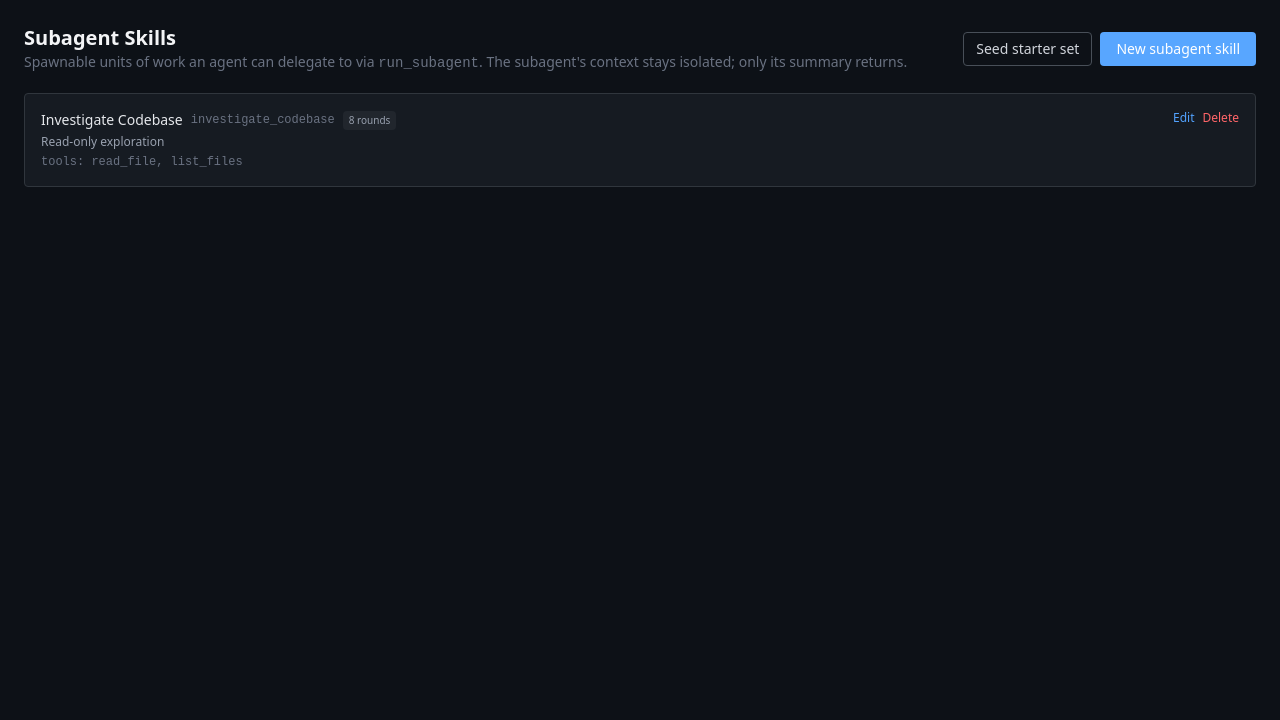
Scenario: SubagentSkills — no nesting › excludes run_subagent from the tool allowlist options
Click the button "New subagent skill" at coordinates (1178, 48), box left=1100, top=32, right=1256, bottom=66
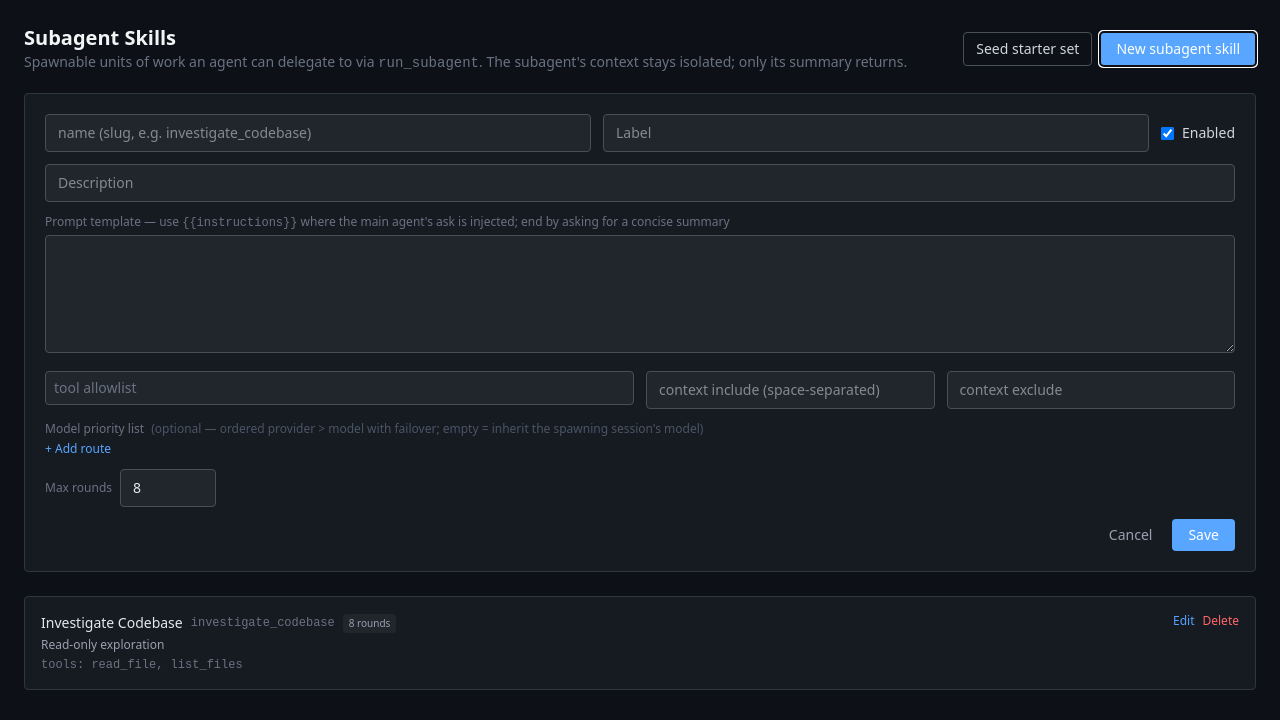
Note: Open the dropdown so options render.
Click the field with placeholder "tool allowlist" at coordinates (340, 388), box left=54, top=378, right=625, bottom=398
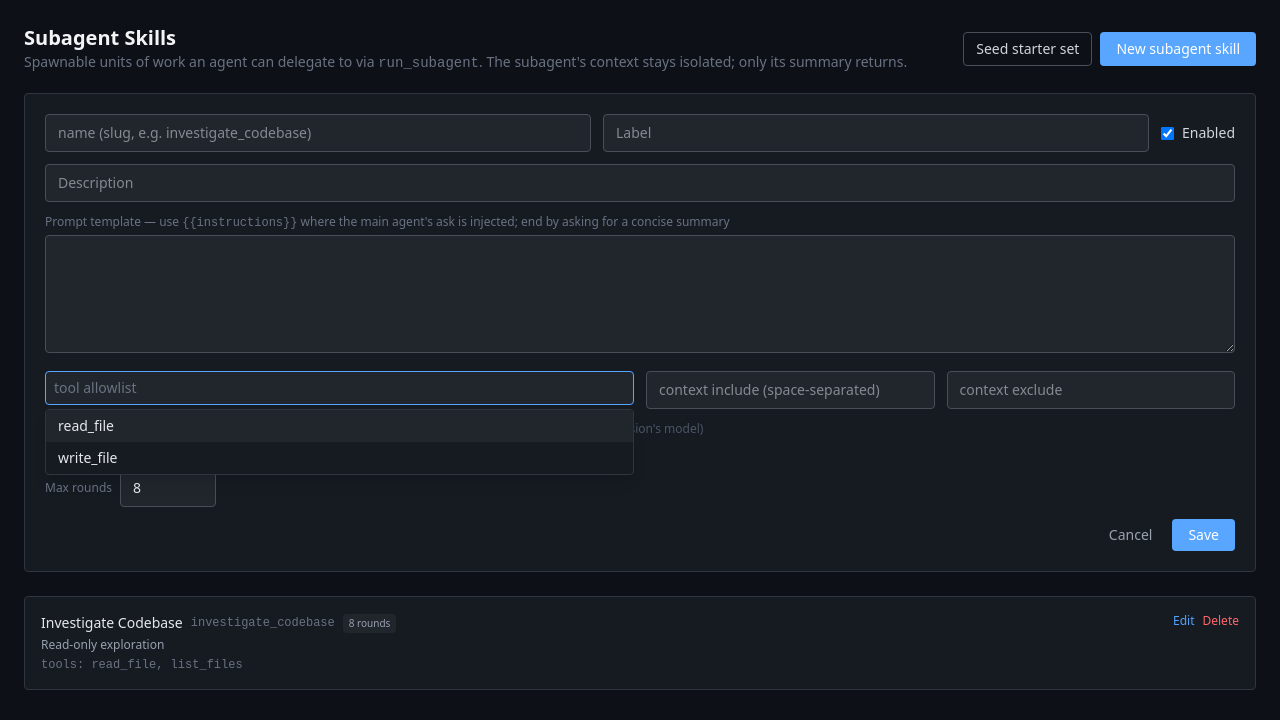
Expected: the text "read_file" is shown, left=58, top=416, right=114, bottom=435
